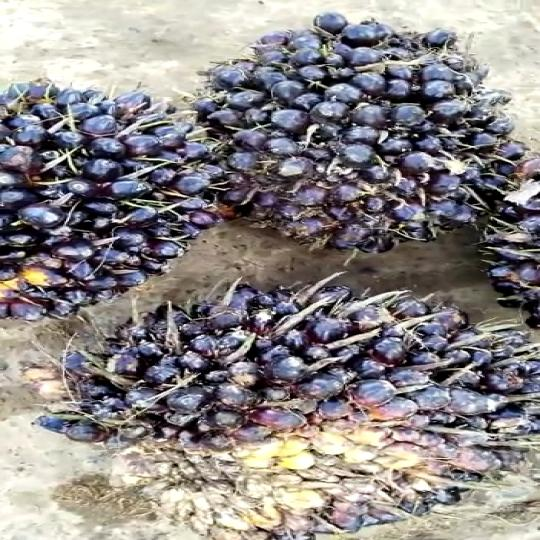mentah: (71, 272, 540, 532), (176, 7, 540, 246), (0, 70, 244, 316)
